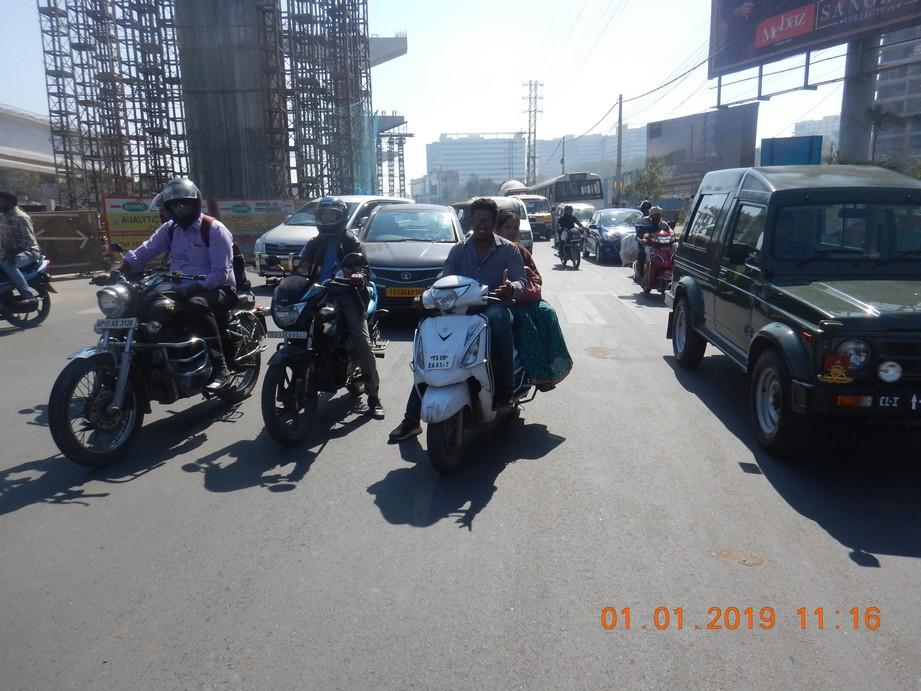plate: (93, 317, 137, 330), (425, 352, 454, 371), (264, 329, 310, 340)
